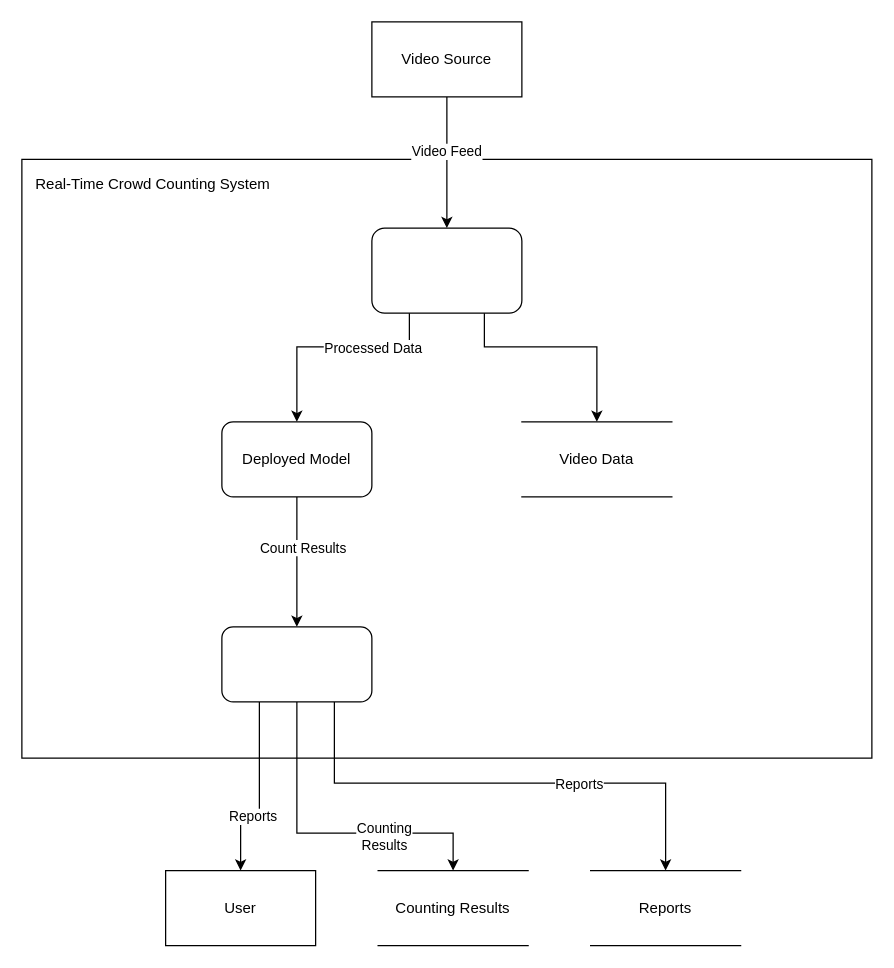
Image size: 894x968. Some labels were removed from this diagram. Each missing label, with the centre of its shape:
"Capture and Preprocess Video Data" goes at (446,270).
"Count Individuals and Generate Reports" goes at (296,664).
